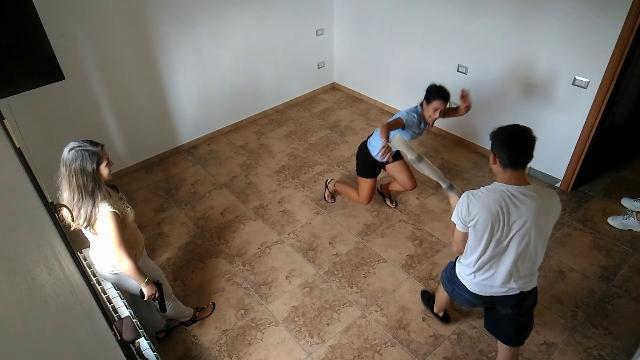non-violence: (52, 138, 218, 344)
violence: (322, 84, 564, 358)
weapon: (139, 282, 168, 317)
